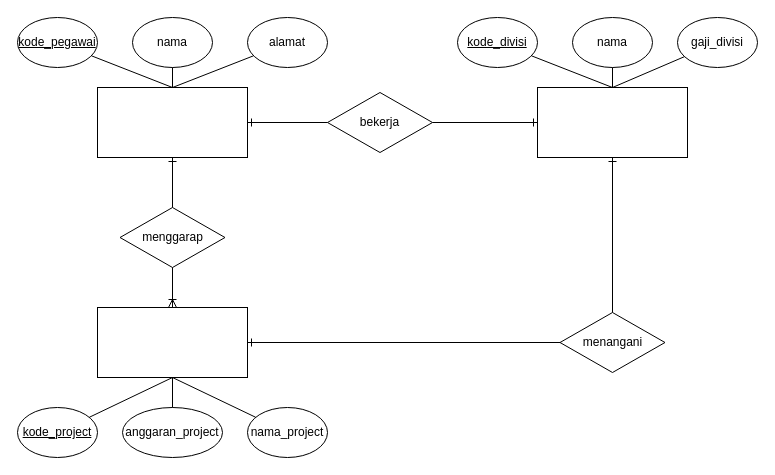
Image size: 775x475. Some labels were removed from this diagram. The shapes that lost their labels are listed below. From the top down, each one's centre as x and y in pixels, then its label:
the point at 172,122: Pegawai
the point at 612,122: Divisi
the point at 172,342: Project
